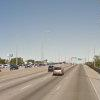Car: (40, 57, 70, 85)
